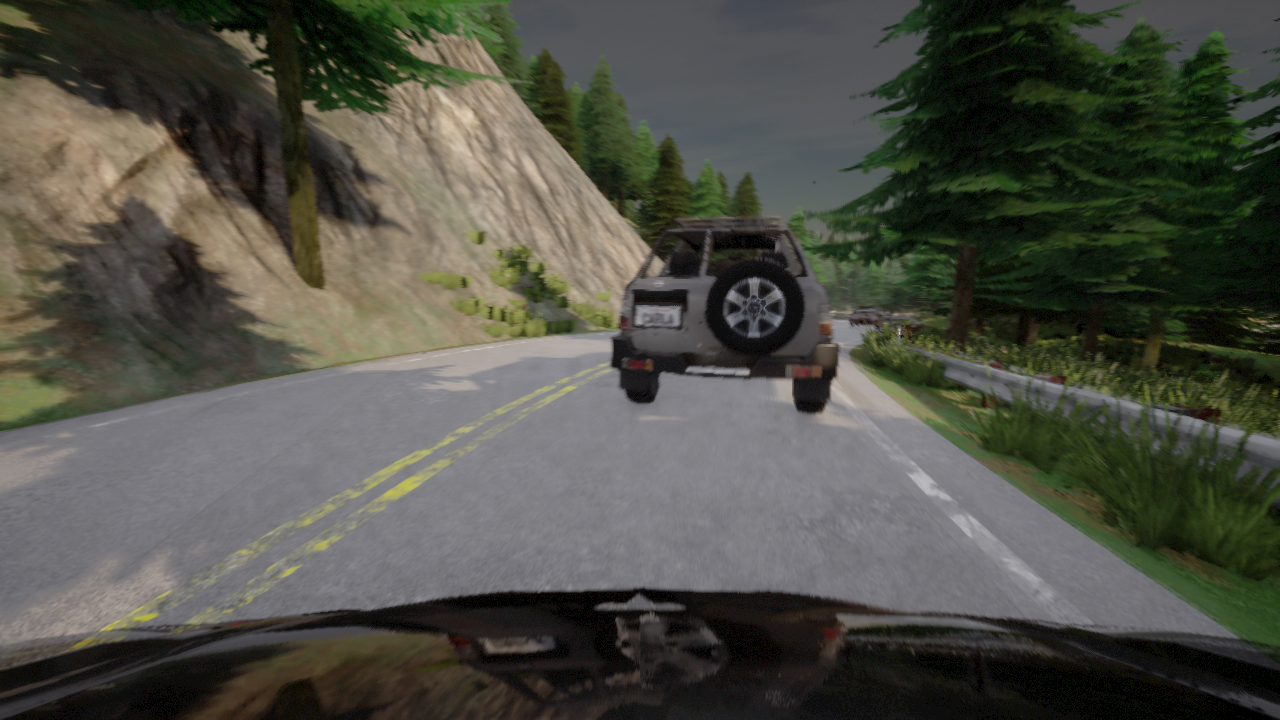cyclist: (0, 588, 1279, 719), (611, 216, 838, 412), (850, 307, 884, 327), (880, 310, 892, 322), (830, 307, 833, 321)
